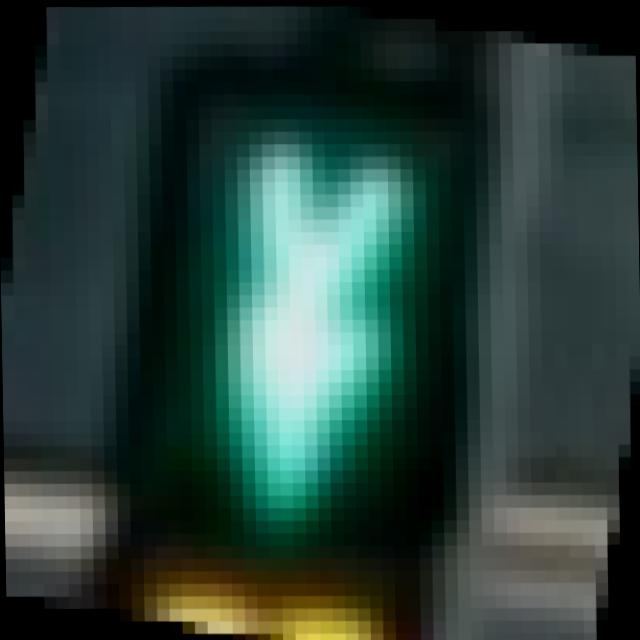green_light: (148, 99, 532, 586)
